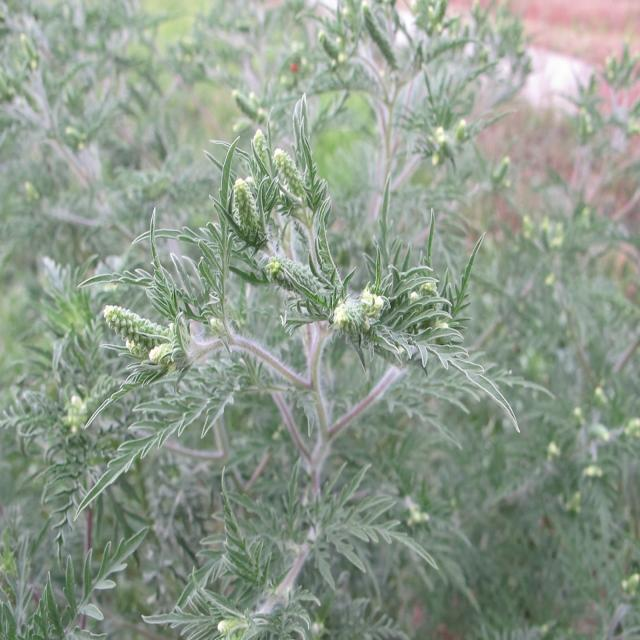ambrosia: (193, 122, 473, 393), (58, 238, 268, 516), (149, 475, 403, 640), (326, 0, 549, 131)
